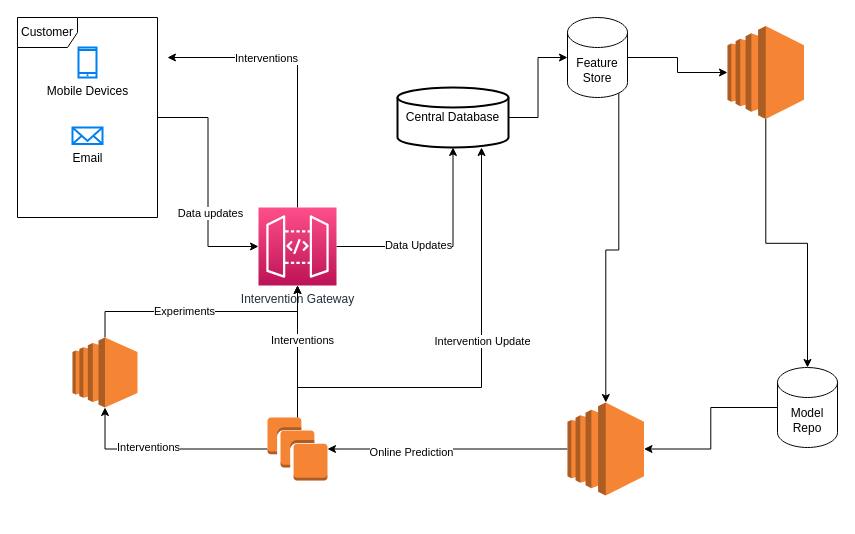
Some shapes in this 855 by 534 pixel diagram are drawn without their labels. The shapes that lost their labels are listed below. From the top down, each one's centre as x and y in pixels, then its label:
(x=765, y=72): Model Training
(x=105, y=372): A/B testing service
(x=297, y=448): Intervention services
(x=605, y=449): Inference
